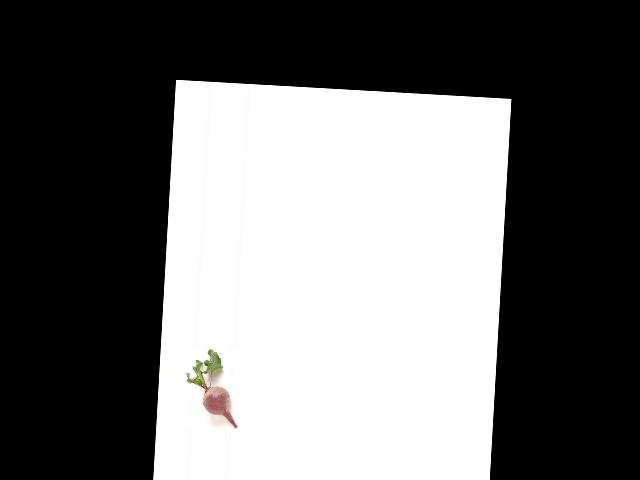beet: (183, 347, 241, 427)
